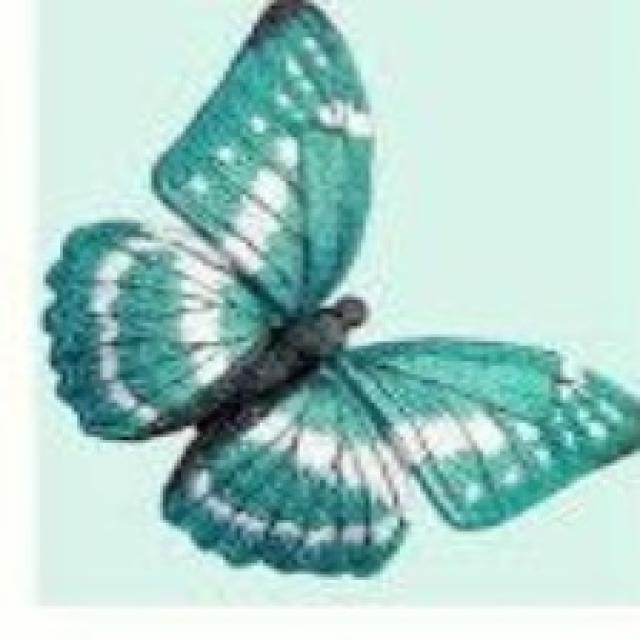butterfly: (37, 0, 637, 580)
